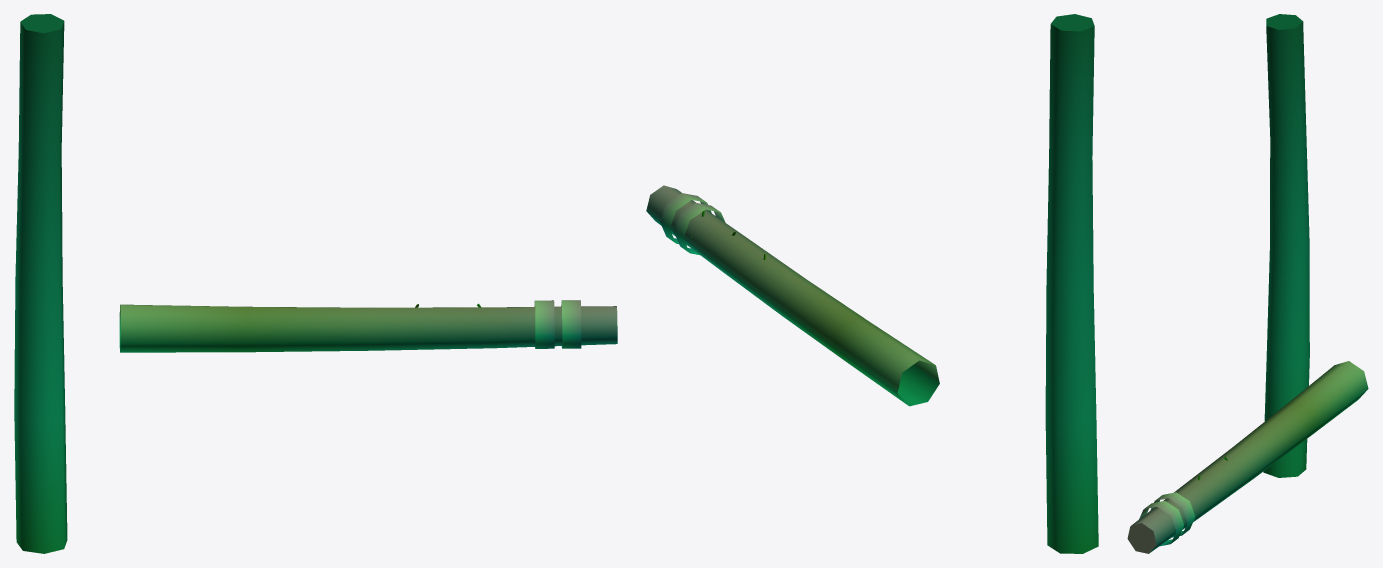
The model's file is pilgrim_marker_post_broken.glb.
The picture shows the model from 3 angles, left to right: view 1: azimuth 30°, elevation 25°; view 2: azimuth 150°, elevation 25°; view 3: azimuth 270°, elevation 25°; orthographic projection. The views are drawn at different scales.
Visible parts, largest first — view 1: pilgrim_marker_post_broken; view 2: pilgrim_marker_post_broken; view 3: pilgrim_marker_post_broken.
Part boxes in pixels (x1=…): pilgrim_marker_post_broken: x1=14, y1=14, x2=617, y2=553; pilgrim_marker_post_broken: x1=646, y1=14, x2=1098, y2=553; pilgrim_marker_post_broken: x1=1127, y1=14, x2=1368, y2=553.
Size of what is drawn, in the model's own units: 1.58 by 1.5 by 0.7329.
